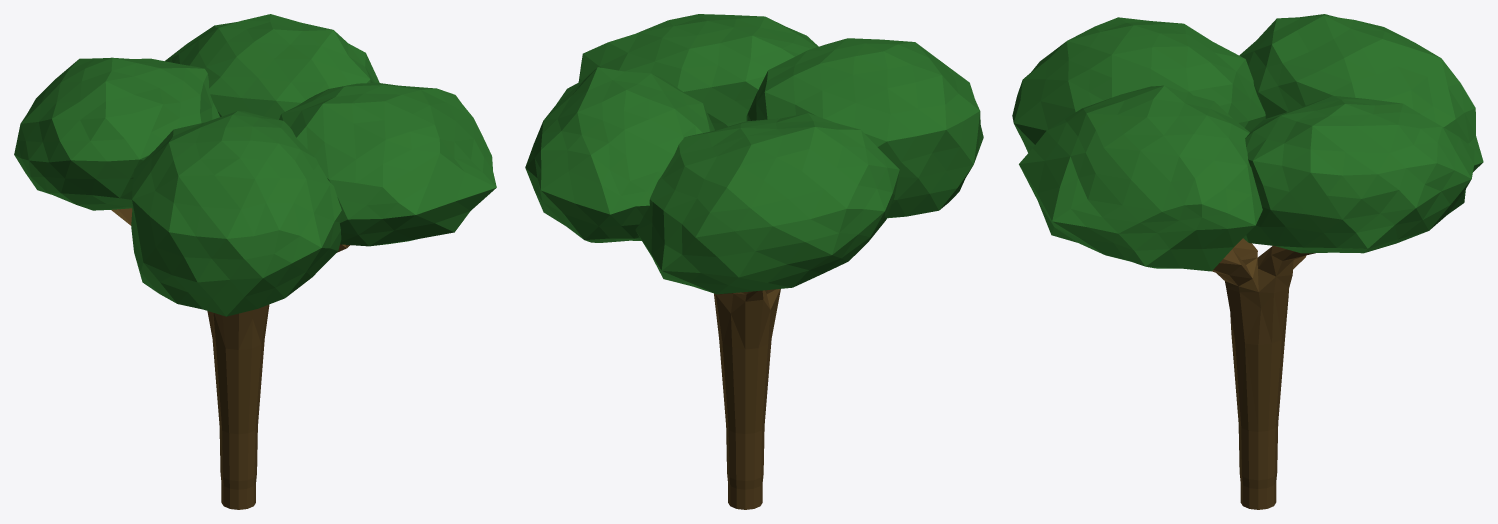
Rendered from LargeOakTree.dae.
3 views of the same model, side by side, from view 1: azimuth 30°, elevation 25°; view 2: azimuth 150°, elevation 25°; view 3: azimuth 270°, elevation 25° (orthographic). The views are drawn at different scales.
Parts seen in each view (by area): view 1: Large Oak Tree.001; view 2: Large Oak Tree.001; view 3: Large Oak Tree.001.
Part boxes in pixels (left/top/right/bottom): Large Oak Tree.001: left=14, top=14, right=496, bottom=509; Large Oak Tree.001: left=525, top=14, right=983, bottom=509; Large Oak Tree.001: left=1012, top=14, right=1483, bottom=509.
Bounding box in the file's own units: 19.53 × 20.9 × 21.44.
